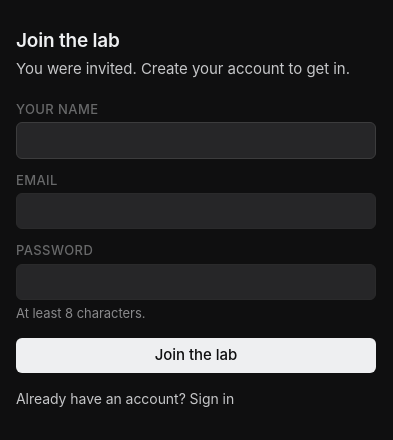
Test case: reports that the invite is spent in the lab's own words
Type "Bo" into the field labelled "Your name" at (196, 141), box x1=16 y1=122 x2=376 y2=159
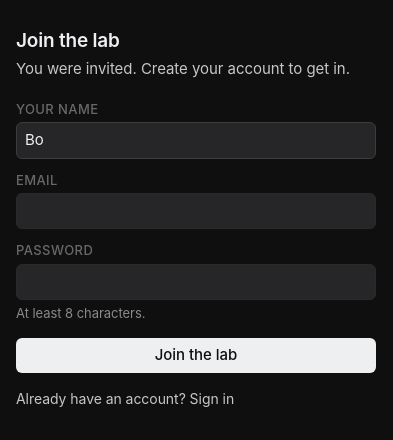
Type "bo@lab.example" into the field labelled "Email" at (196, 211), box x1=16 y1=193 x2=376 y2=229
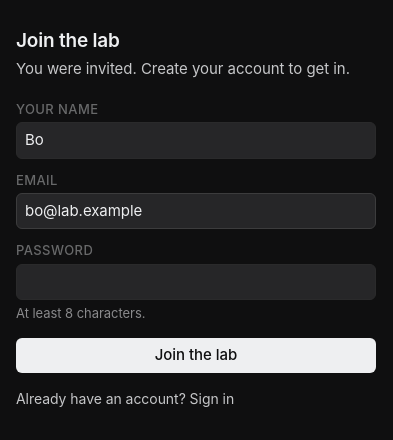
Type "a good long password" into the password field labelled "Password At least 8 characters." at (196, 282), box x1=16 y1=264 x2=376 y2=300
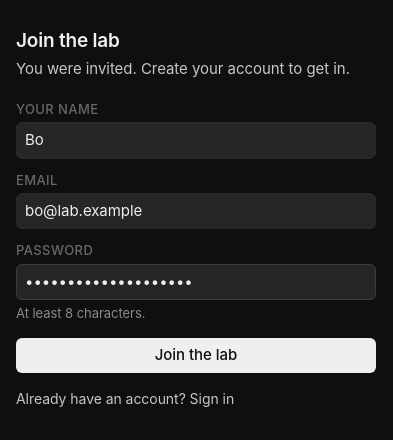
Click the button "Join the lab" at (196, 356), box x1=16 y1=338 x2=376 y2=373
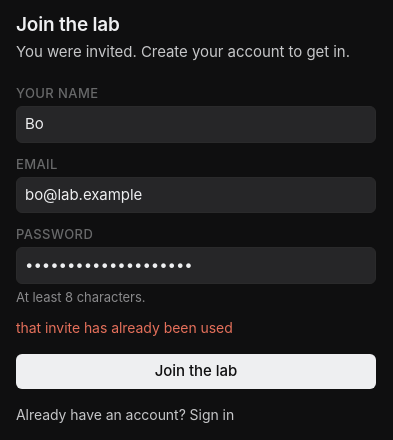
Check: the text "that invite has already been used" is shown, box x1=16 y1=319 x2=233 y2=336
